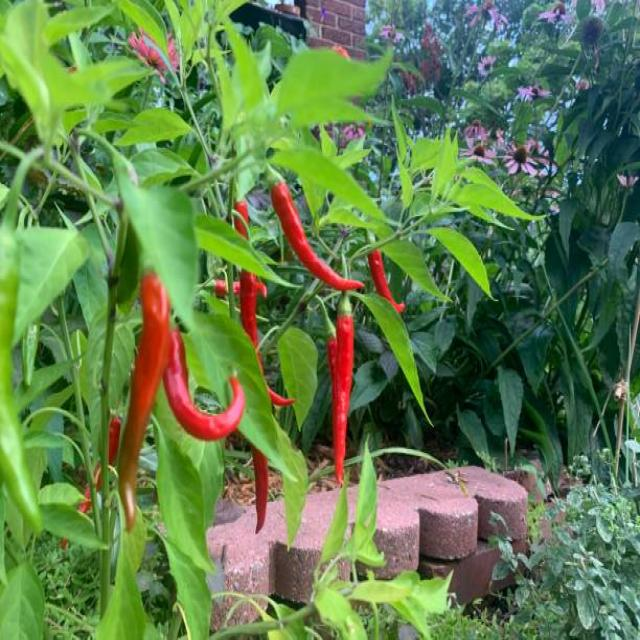Half-Ripe: (119, 273, 170, 528)
Ripe: (272, 183, 362, 289), (163, 328, 245, 439), (327, 314, 352, 482), (368, 251, 404, 311), (253, 449, 268, 533)
